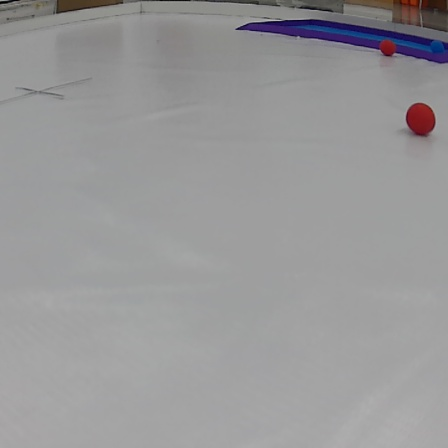blue: (430, 39, 447, 56)
blue_aim: (241, 8, 448, 64)
red: (406, 100, 437, 133), (378, 39, 397, 57)
